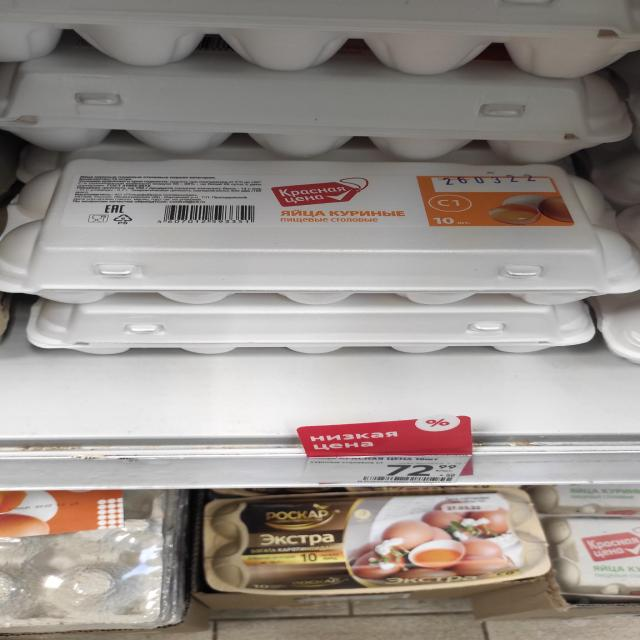organic waste: (5, 159, 639, 303), (202, 490, 551, 593), (557, 516, 640, 600)
